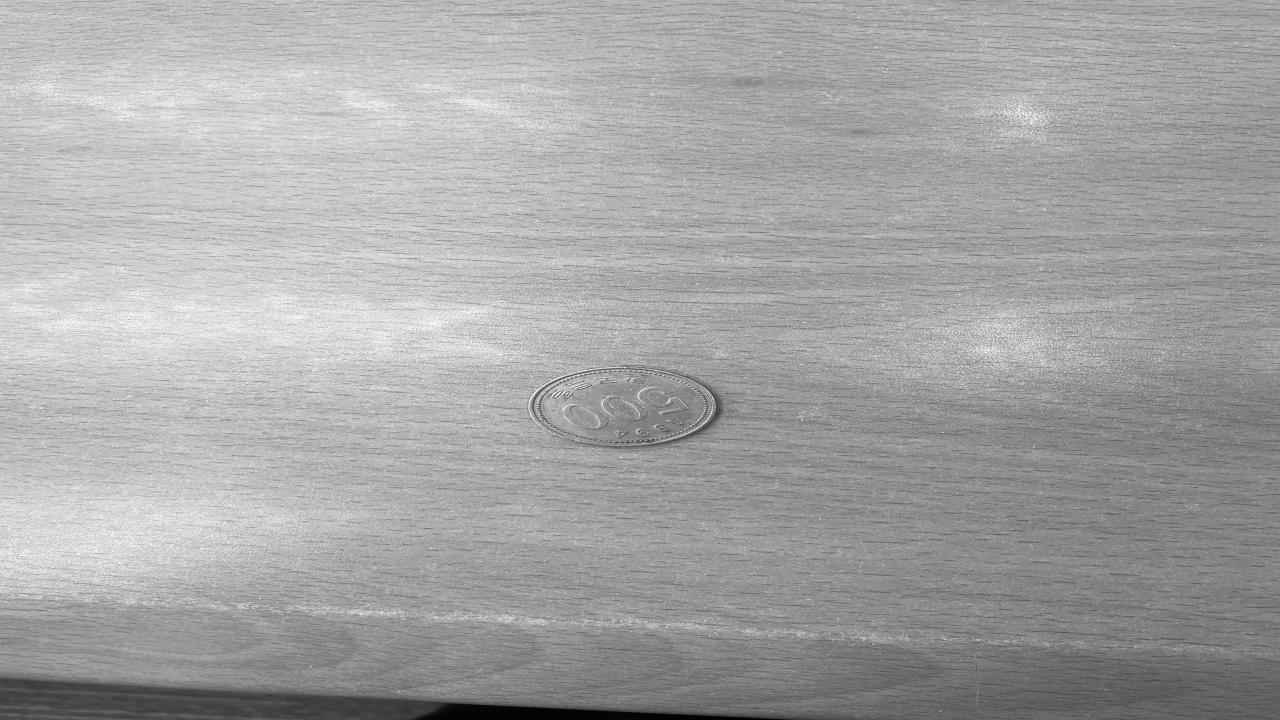coin: (526, 365, 724, 449)
